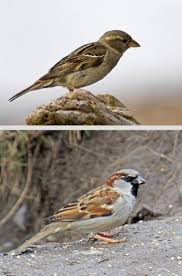hsparrow: (8, 168, 148, 252), (5, 28, 141, 104)
